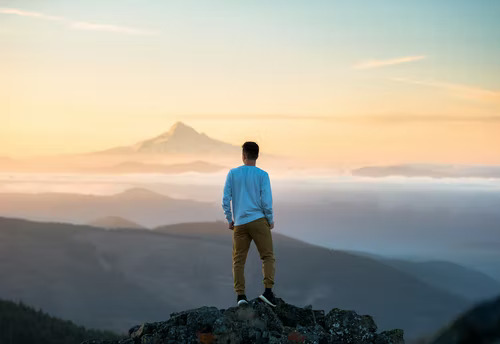person: (222, 140, 277, 303)
